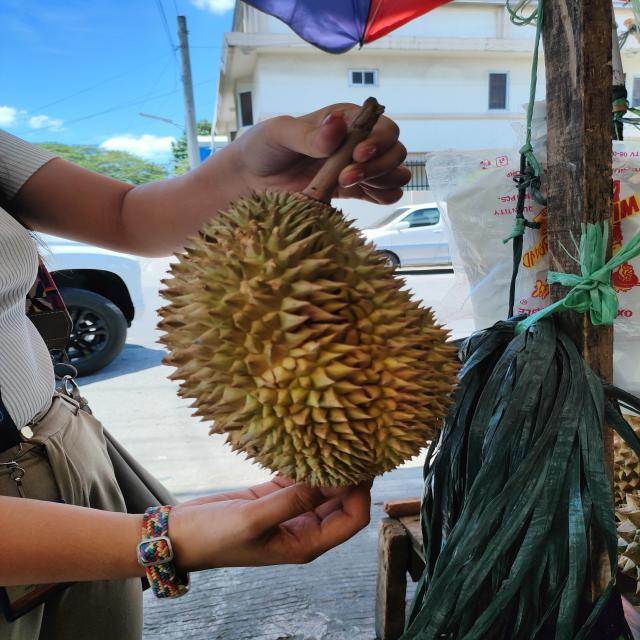mature: (157, 191, 469, 489)
